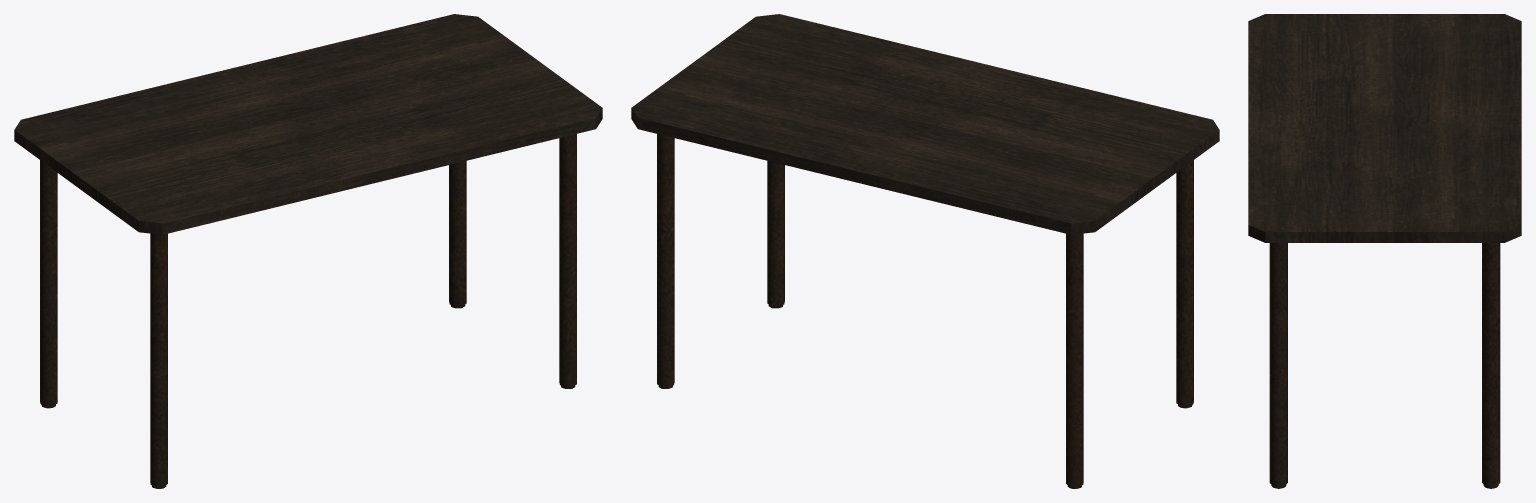
Rendered from table_large_1_2.fbx.
3 views of the same model, side by side, from view 1: azimuth 30°, elevation 25°; view 2: azimuth 150°, elevation 25°; view 3: azimuth 270°, elevation 25° (orthographic). The views are drawn at different scales.
Visible parts, largest first — view 1: table_large_1_2; view 2: table_large_1_2; view 3: table_large_1_2.
Boxes of the visible parts, left/top/right/bottom form: table_large_1_2: left=14, top=14, right=602, bottom=488; table_large_1_2: left=631, top=14, right=1219, bottom=488; table_large_1_2: left=1248, top=14, right=1521, bottom=488.
Bounding box in the file's own units: 1.7 × 0.9 × 0.97.
